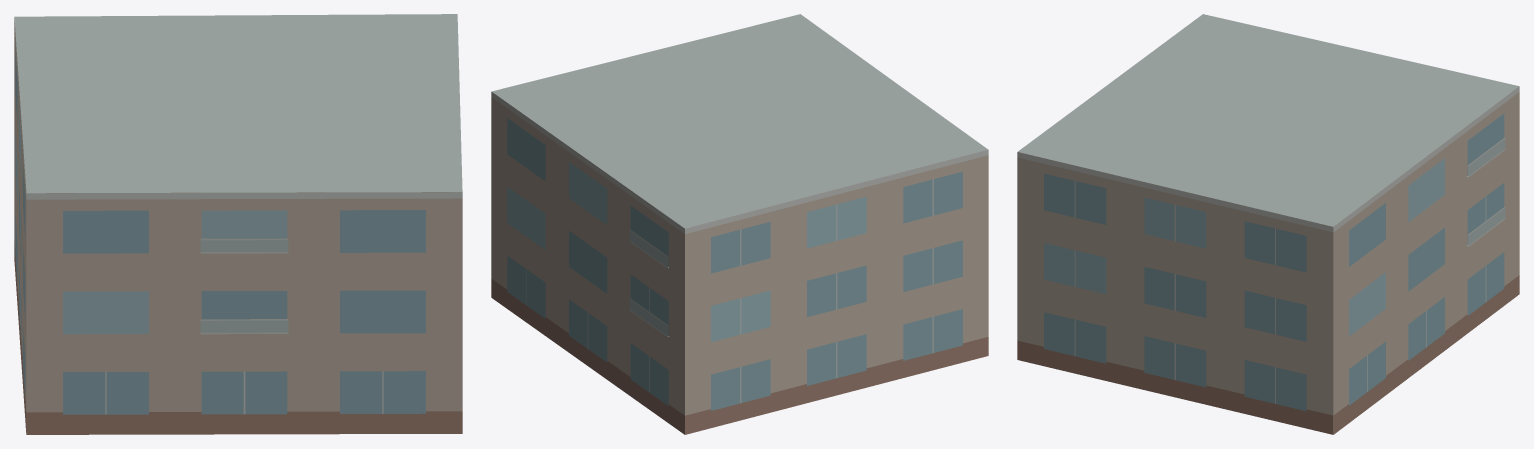
File: survey-upis-32870625.glb
3 views of the same model, side by side, from view 1: azimuth 30°, elevation 25°; view 2: azimuth 150°, elevation 25°; view 3: azimuth 270°, elevation 25° (orthographic). The views are drawn at different scales.
Parts seen in each view (by area): view 1: survey-upis-32870625.tmp; view 2: survey-upis-32870625.tmp; view 3: survey-upis-32870625.tmp.
Boxes of the visible parts, <box> form: survey-upis-32870625.tmp: <box>14,14,462,434</box>; survey-upis-32870625.tmp: <box>491,14,988,434</box>; survey-upis-32870625.tmp: <box>1017,14,1519,434</box>.
Size of the model in its own units: 20.09 by 9.15 by 20.03.
